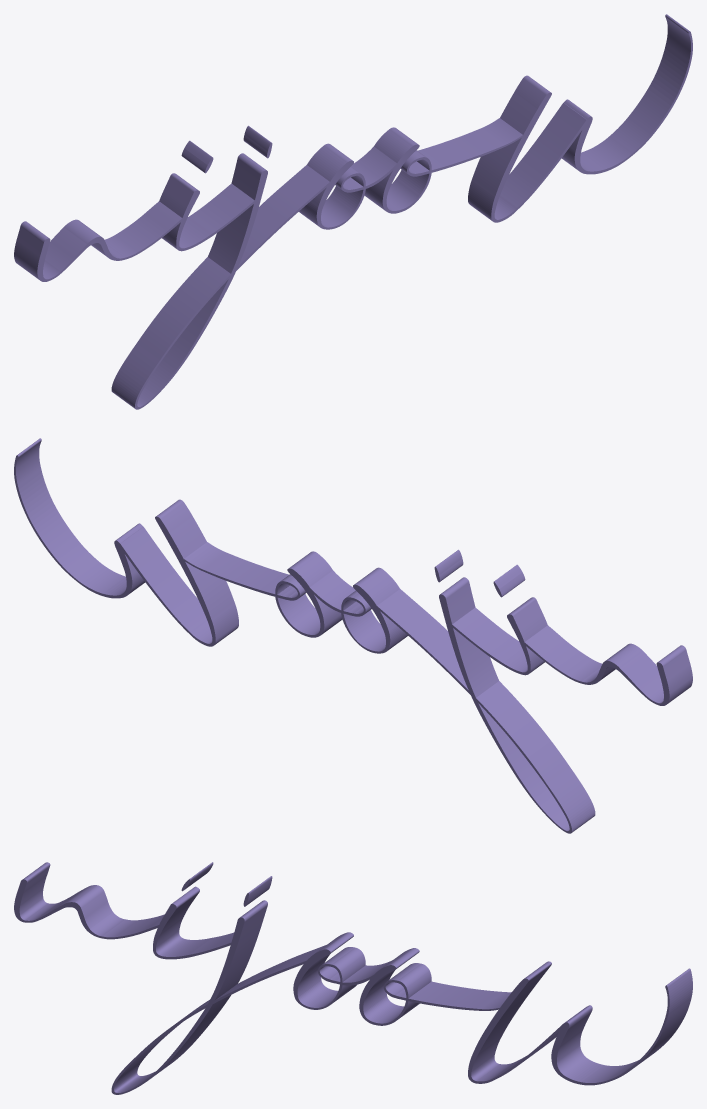
The model's file is nijoowDark.glb.
3 views of the same model, one above another, from view 1: azimuth 30°, elevation 25°; view 2: azimuth 150°, elevation 25°; view 3: azimuth 330°, elevation 25° (orthographic).
Visible parts, largest first — view 1: Curve.003; view 2: Curve.003; view 3: Curve.003.
Boxes of the visible parts, x1=… form: Curve.003: x1=14, y1=14, x2=692, y2=409; Curve.003: x1=14, y1=438, x2=692, y2=833; Curve.003: x1=14, y1=862, x2=692, y2=1094.
Size of the model in its own units: 13.45 by 4.78 by 0.8292.
